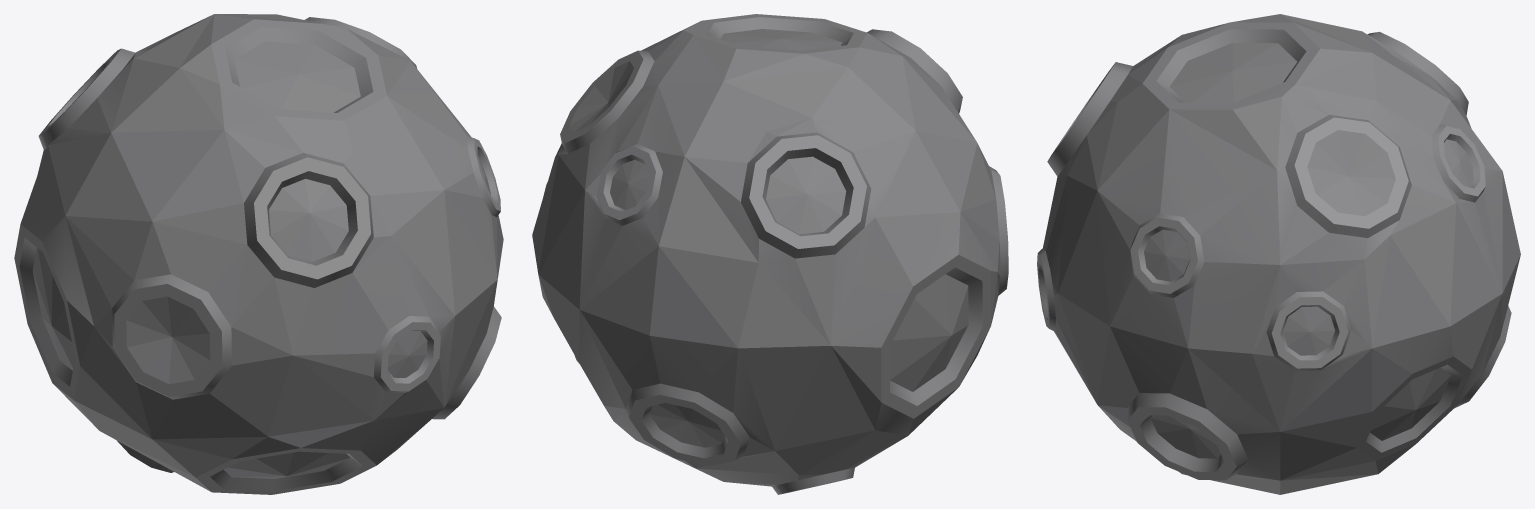
Rendered from moon.gltf.
3 views of the same model, side by side, from view 1: azimuth 30°, elevation 25°; view 2: azimuth 150°, elevation 25°; view 3: azimuth 270°, elevation 25° (orthographic). The views are drawn at different scales.
Visible parts, largest first — view 1: GeoSphere013; view 2: GeoSphere013; view 3: GeoSphere013.
Boxes of the visible parts, <box> form: GeoSphere013: <box>14,14,503,494</box>; GeoSphere013: <box>532,14,1008,494</box>; GeoSphere013: <box>1037,14,1520,494</box>.
Size of the model in its own units: 1.86 by 1.84 by 1.88.
1 material, 1 textured.
